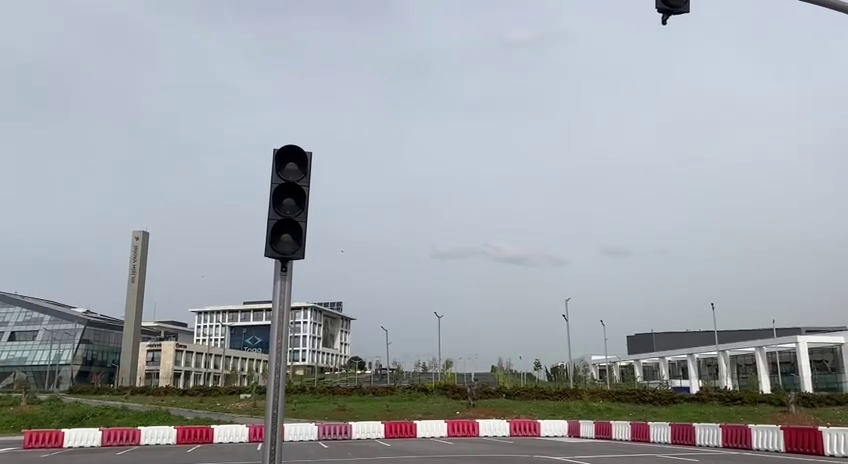trafficLight: (261, 140, 315, 267)
